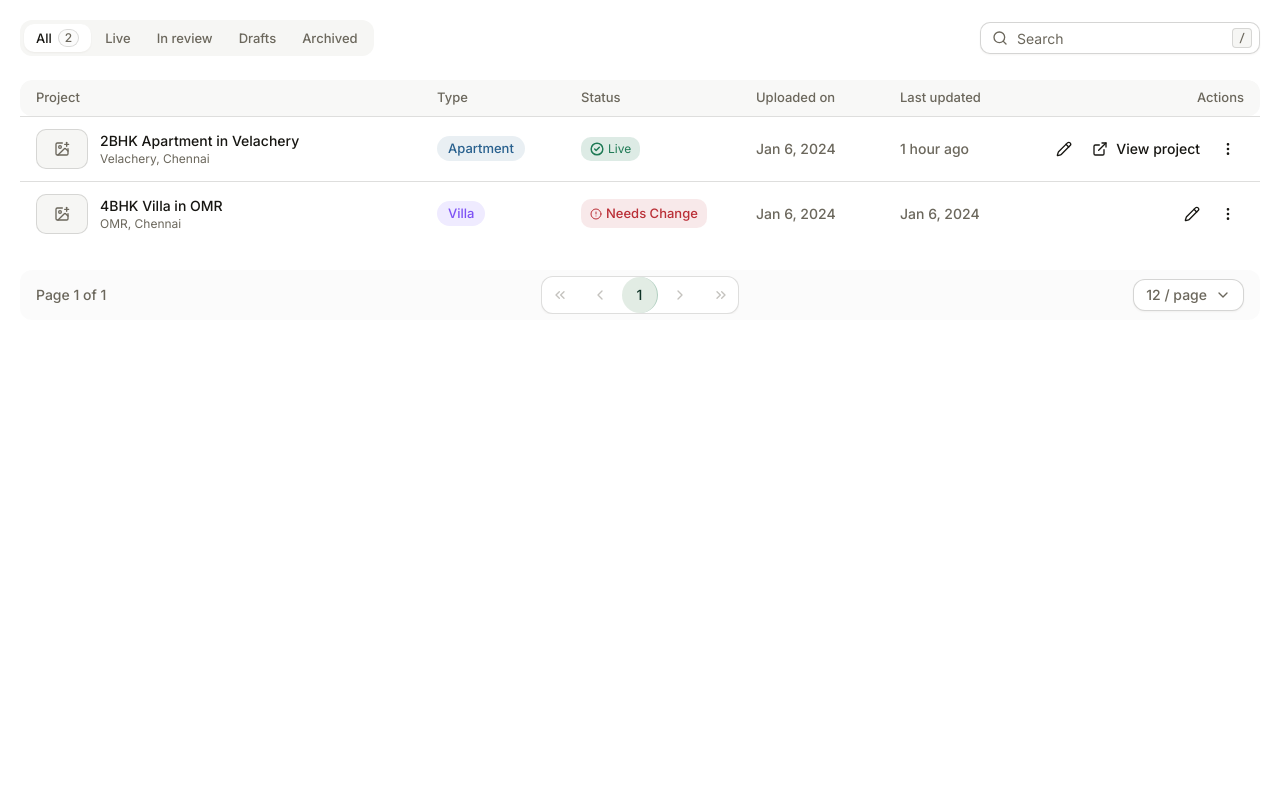
DesignerProjectsList › renders project filters, rows, status badges, and edit links
Check: the text "2BHK Apartment in Velachery" is shown, box top-left (100, 130), bottom-right (299, 150)
Check: the text "Velachery, Chennai" is shown, box top-left (100, 150), bottom-right (210, 166)
Step 1. Click the button with aria-label "Needs Change details" → (644, 214), box top-left (581, 199), bottom-right (707, 228)
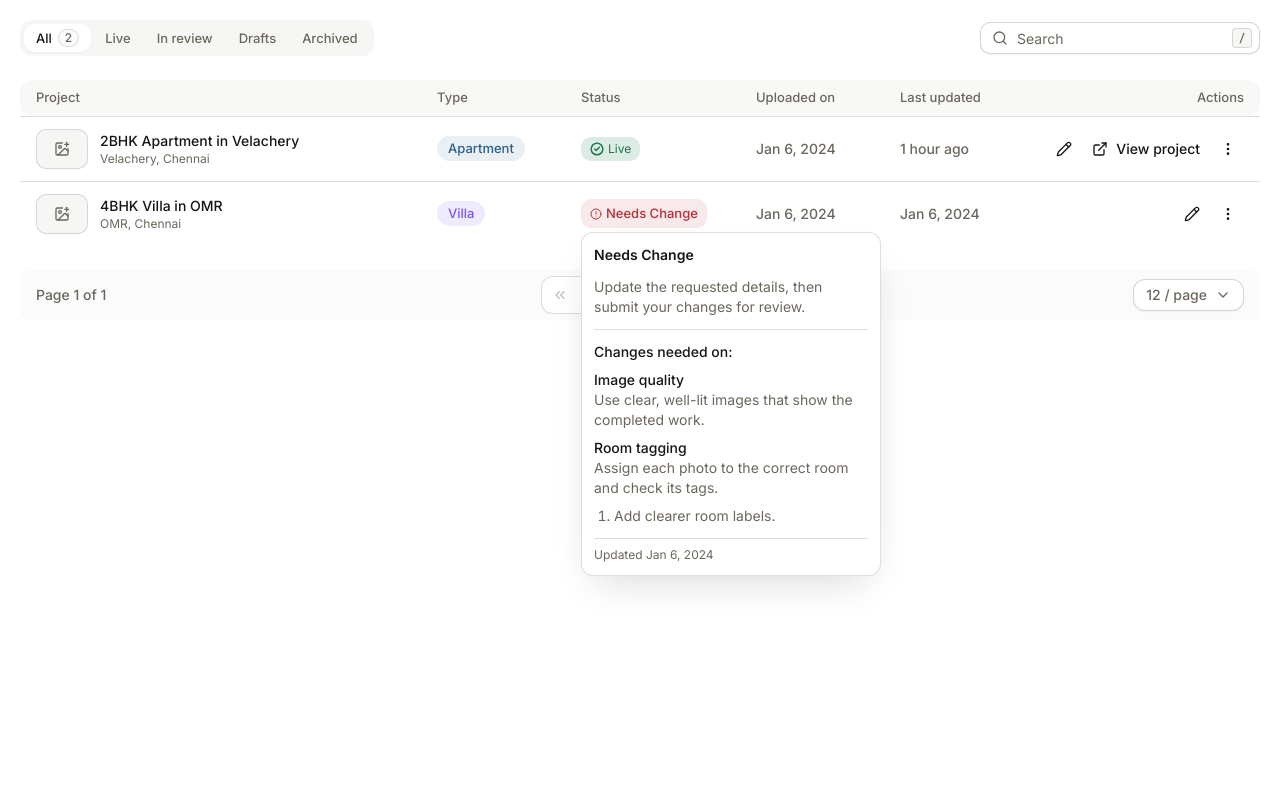
Check: the tooltip shows "Changes needed on:", box top-left (594, 343), bottom-right (732, 360)
Check: the tooltip shows "Add clearer room labels.", box top-left (614, 507), bottom-right (776, 524)
Check: the tooltip shows "Image quality", box top-left (594, 371), bottom-right (684, 388)
